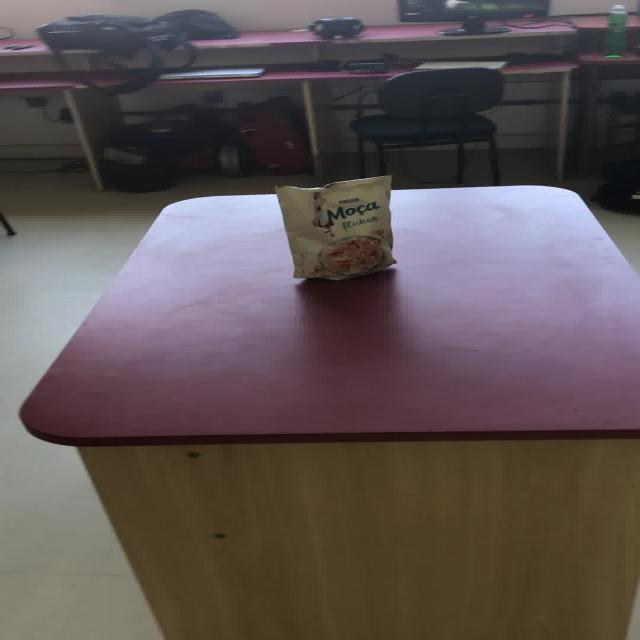corn flakes: (272, 174, 396, 280), (315, 235, 383, 275)
